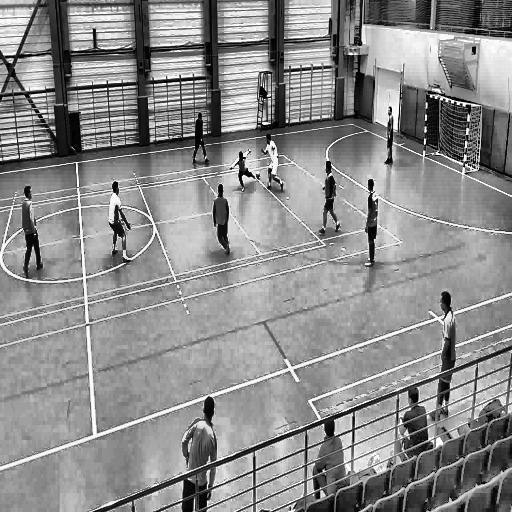ball: (254, 169, 262, 181)
player: (430, 292, 456, 424), (20, 180, 46, 280), (108, 179, 135, 265), (318, 159, 340, 240), (211, 182, 233, 258), (261, 127, 285, 192), (364, 176, 379, 269), (230, 148, 260, 192), (191, 109, 212, 165), (384, 105, 398, 173)
